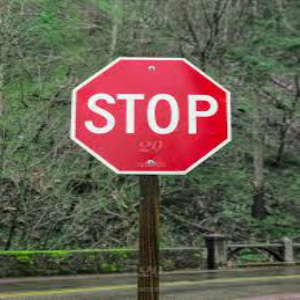STOP_SIGN: (69, 56, 233, 175)
